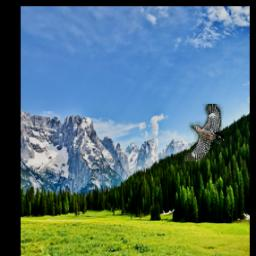Woodpecker: (184, 104, 224, 161)
